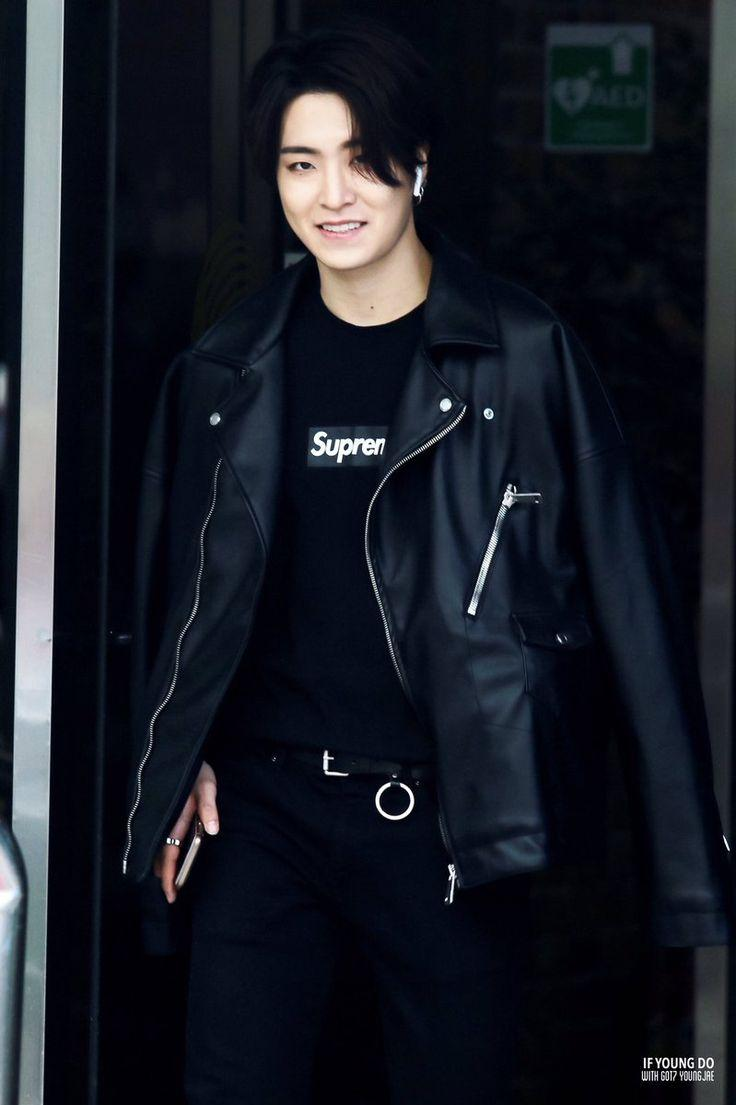earphone: (393, 159, 433, 211)
